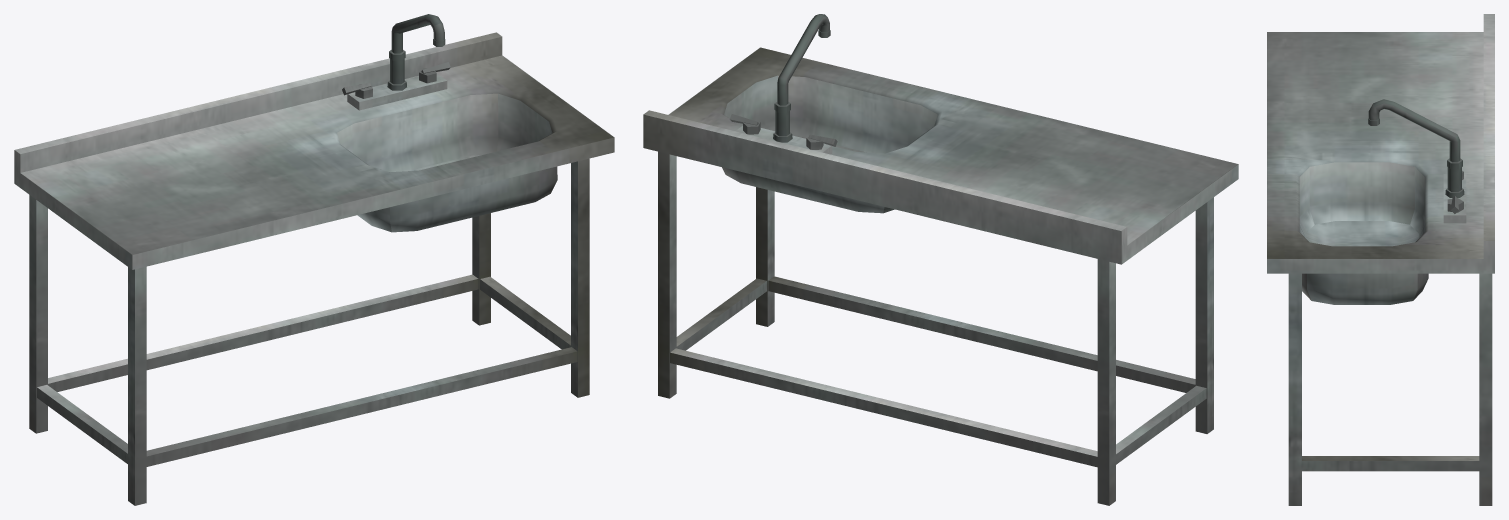
Rendered from WashbasinType1.glb.
3 renders of one model, left to right at view 1: azimuth 30°, elevation 25°; view 2: azimuth 150°, elevation 25°; view 3: azimuth 270°, elevation 25°, orthographic. The views are drawn at different scales.
Visible parts, largest first — view 1: Washbasin_01; view 2: Washbasin_01; view 3: Washbasin_01.
Part boxes in pixels (<box>): Washbasin_01: <box>14,14,614,505</box>; Washbasin_01: <box>643,14,1238,505</box>; Washbasin_01: <box>1267,14,1494,505</box>.
Size of the model in its own units: 2.64 by 1.93 by 1.12.
1 material, 1 textured.
